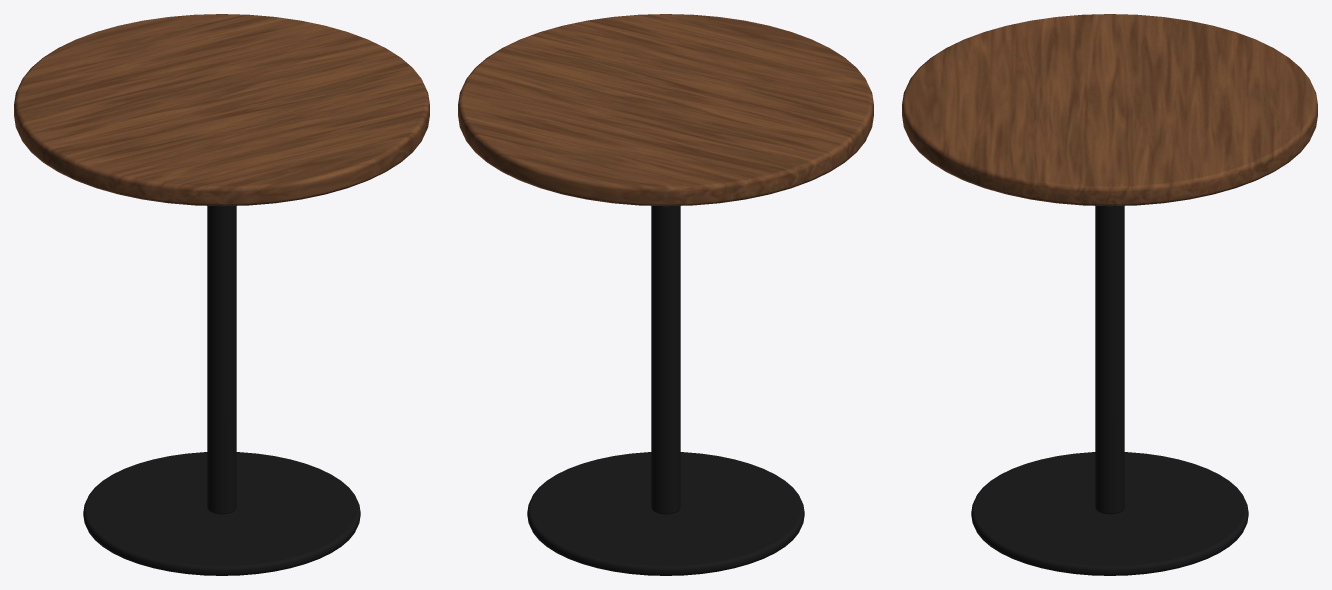
File: side_table.glb
3 views of the same model, side by side, from view 1: azimuth 30°, elevation 25°; view 2: azimuth 150°, elevation 25°; view 3: azimuth 270°, elevation 25° (orthographic).
Parts seen in each view (by area): view 1: Cylinder; view 2: Cylinder; view 3: Cylinder.
Part boxes in pixels (x1,y1,x2,y2): Cylinder: (14,14,429,575); Cylinder: (458,14,873,575); Cylinder: (902,14,1317,575).
Size of the model in its own units: 0.45 by 0.5 by 0.45.
1 material, 1 textured.
